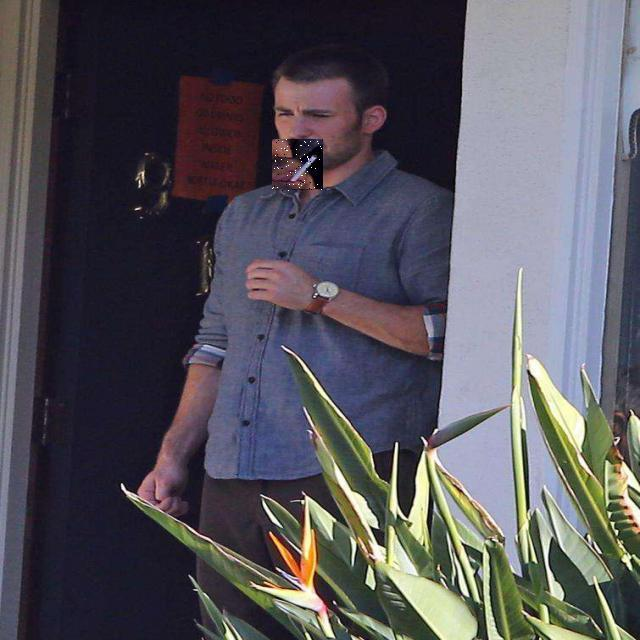smoking: (272, 140, 323, 192)
